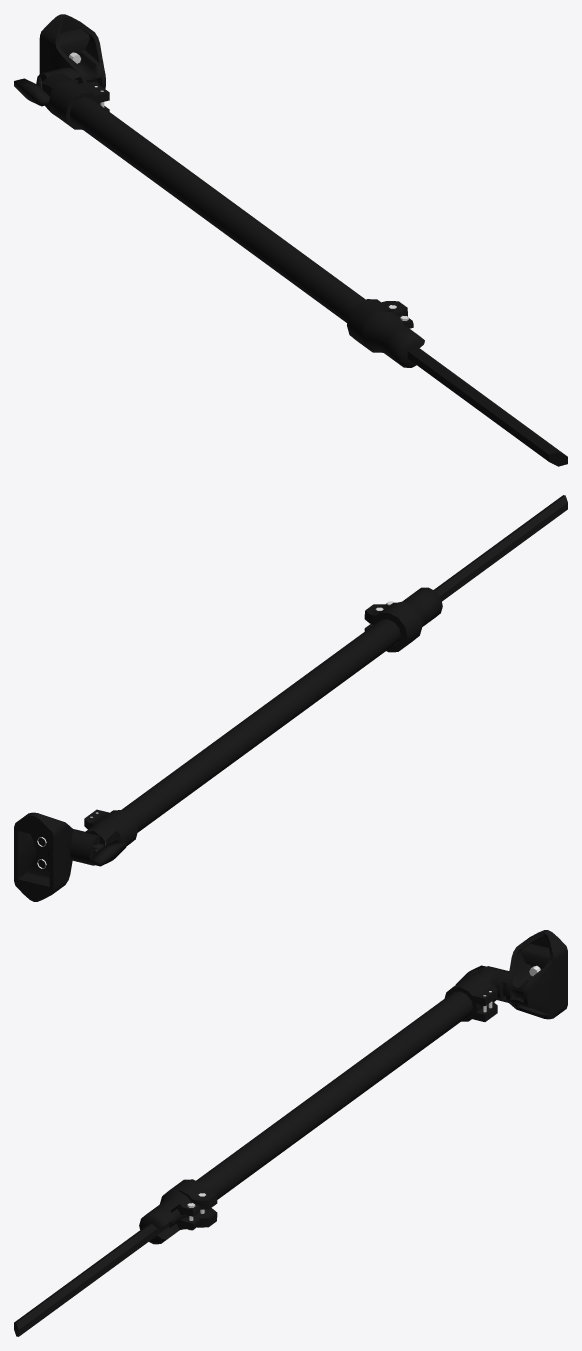
Rendered from blueboat_antenna_mast.visual.glb.
The picture shows the model from 3 angles, top to bottom: view 1: azimuth 30°, elevation 25°; view 2: azimuth 150°, elevation 25°; view 3: azimuth 330°, elevation 25°; orthographic projection. The views are drawn at different scales.
Visible parts, largest first — view 1: blueboat_antenna_mast.visual.001; view 2: blueboat_antenna_mast.visual.001; view 3: blueboat_antenna_mast.visual.001.
Boxes of the visible parts, box(x1,y1,x2,y2) form: blueboat_antenna_mast.visual.001: box(14, 14, 567, 466); blueboat_antenna_mast.visual.001: box(14, 495, 567, 901); blueboat_antenna_mast.visual.001: box(14, 930, 567, 1336).
Size of the model in its own units: 0.0744 by 0.0814 by 0.8621.
Materials: 1 (1 with a texture image).
